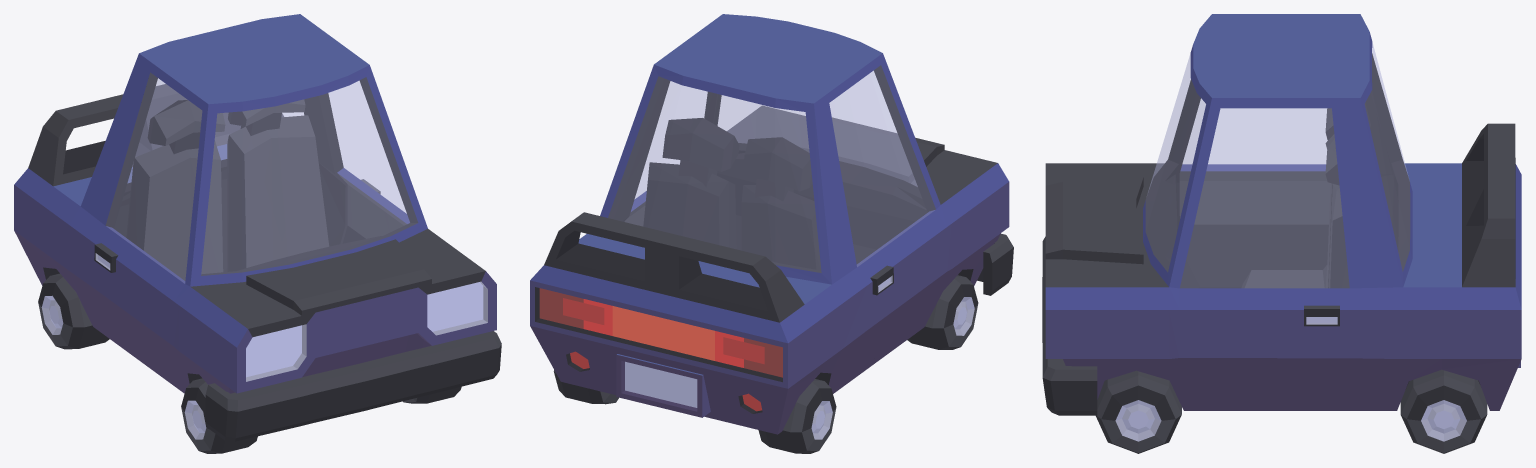
File: sleek-purple-cruiser.glb
3 views of the same model, side by side, from view 1: azimuth 30°, elevation 25°; view 2: azimuth 150°, elevation 25°; view 3: azimuth 270°, elevation 25° (orthographic). The views are drawn at different scales.
Visible parts, largest first — view 1: Car01_1_Carbon, Car01_1_DR.001, Car01_1_AdF.001, Car01_1_DL.001, Car01_1_AdB.001, Car01_1_WhBR.001, Car01_1_WhFR.001; view 2: Car01_1_Carbon, Car01_1_DR.001, Car01_1_AdB.001, Car01_1_WhBR.001, Car01_1_WhFR.001, Car01_1_DL.001, Car01_1_AdF.001, Car01_1_WhBL.001; view 3: Car01_1_Carbon, Car01_1_DL.001, Car01_1_DR.001, Car01_1_AdB.001, Car01_1_WhBL.001, Car01_1_WhFL.001, Car01_1_AdF.001.
Boxes of the visible parts, x1,y1,x2,y2 form: Car01_1_Carbon: (14, 14, 496, 393); Car01_1_DR.001: (94, 73, 201, 385); Car01_1_AdF.001: (205, 331, 501, 441); Car01_1_DL.001: (329, 81, 409, 243); Car01_1_AdB.001: (28, 84, 283, 186); Car01_1_WhBR.001: (38, 273, 109, 349); Car01_1_WhFR.001: (181, 378, 257, 453); Car01_1_Carbon: (530, 14, 1009, 434); Car01_1_DR.001: (829, 65, 947, 373); Car01_1_AdB.001: (544, 212, 804, 322); Car01_1_WhBR.001: (758, 379, 836, 453); Car01_1_WhFR.001: (907, 275, 978, 349); Car01_1_DL.001: (624, 81, 706, 226); Car01_1_AdF.001: (977, 233, 1013, 295); Car01_1_WhBL.001: (553, 370, 618, 404); Car01_1_Carbon: (1045, 14, 1521, 410); Car01_1_DL.001: (1179, 108, 1349, 403); Car01_1_DR.001: (1179, 99, 1330, 287); Car01_1_AdB.001: (1462, 123, 1515, 287); Car01_1_WhBL.001: (1400, 369, 1487, 453); Car01_1_WhFL.001: (1096, 370, 1181, 453); Car01_1_AdF.001: (1042, 236, 1097, 415).
Bounding box in the file's own units: 2.56 × 2.82 × 3.63.
4 materials, 4 textured.
